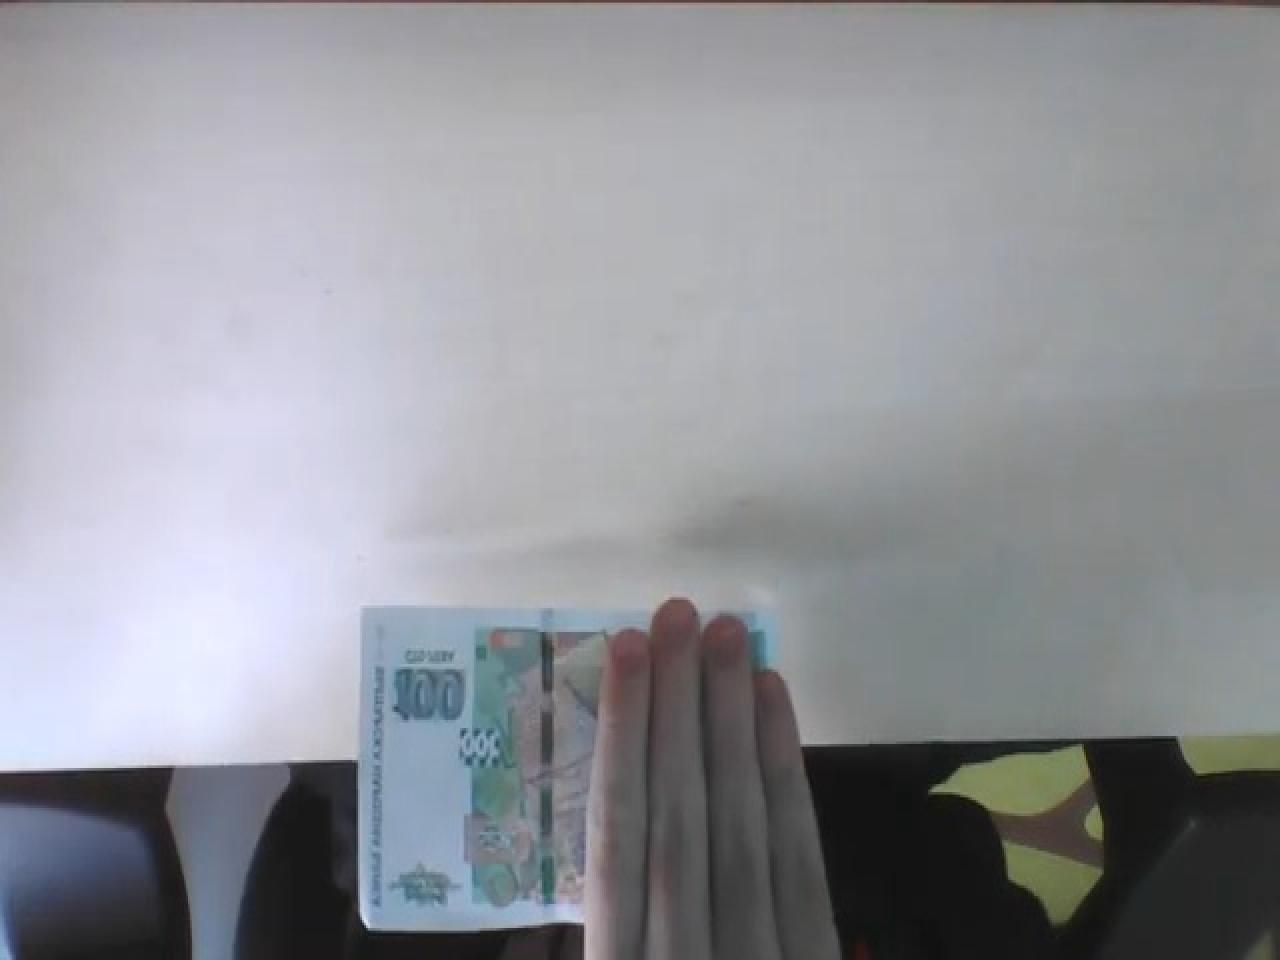100leva: (388, 667, 466, 728)
